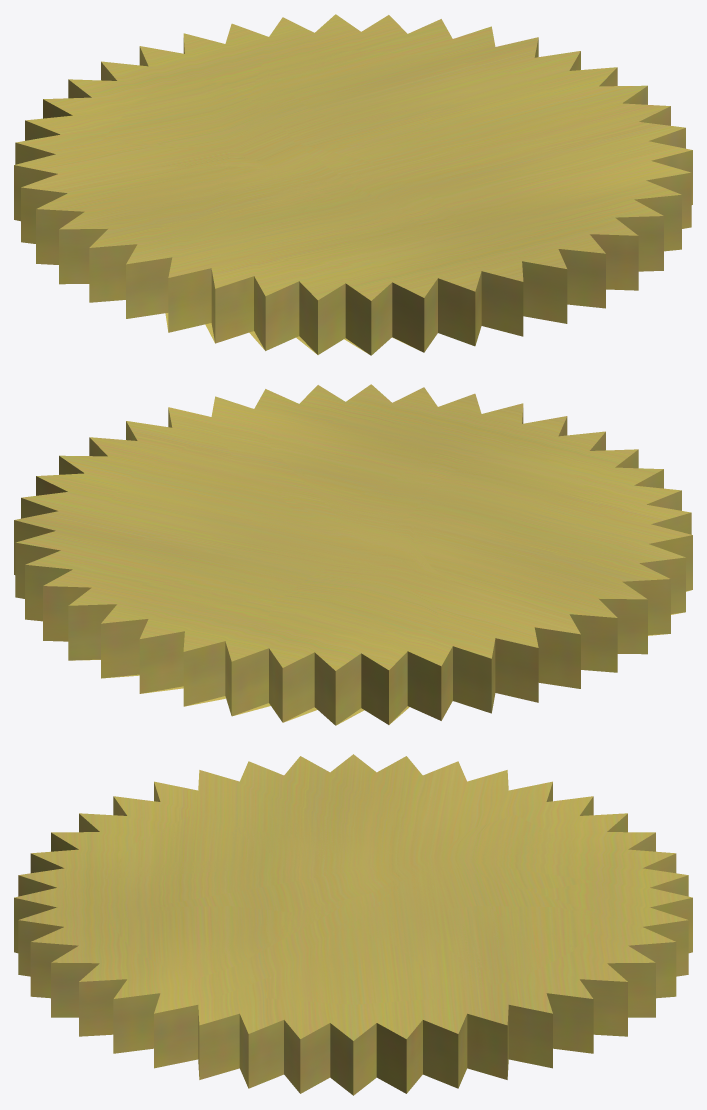
The model's file is ClockStraight6Spoke040.fbx.
3 views of the same model, one above another, from view 1: azimuth 30°, elevation 25°; view 2: azimuth 150°, elevation 25°; view 3: azimuth 270°, elevation 25° (orthographic).
Parts seen in each view (by area): view 1: ClockStraight6Spoke040; view 2: ClockStraight6Spoke040; view 3: ClockStraight6Spoke040.
Part boxes in pixels (bbox=[...]): ClockStraight6Spoke040: bbox=[14, 14, 692, 355]; ClockStraight6Spoke040: bbox=[14, 384, 692, 725]; ClockStraight6Spoke040: bbox=[14, 754, 692, 1095].
Size of the model in its own units: 221 by 19.69 by 221.
